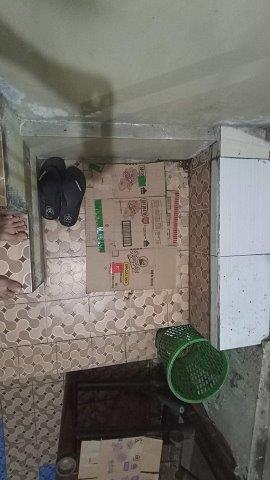kardus: (87, 163, 179, 291), (80, 438, 162, 480)
